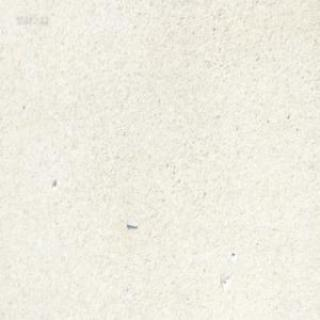Nailtrack_idkeyframe: (146, 235, 162, 246)
